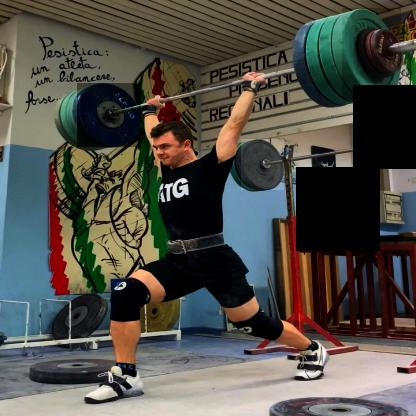barbell: (343, 9, 402, 101), (78, 84, 142, 148), (242, 140, 285, 191)
